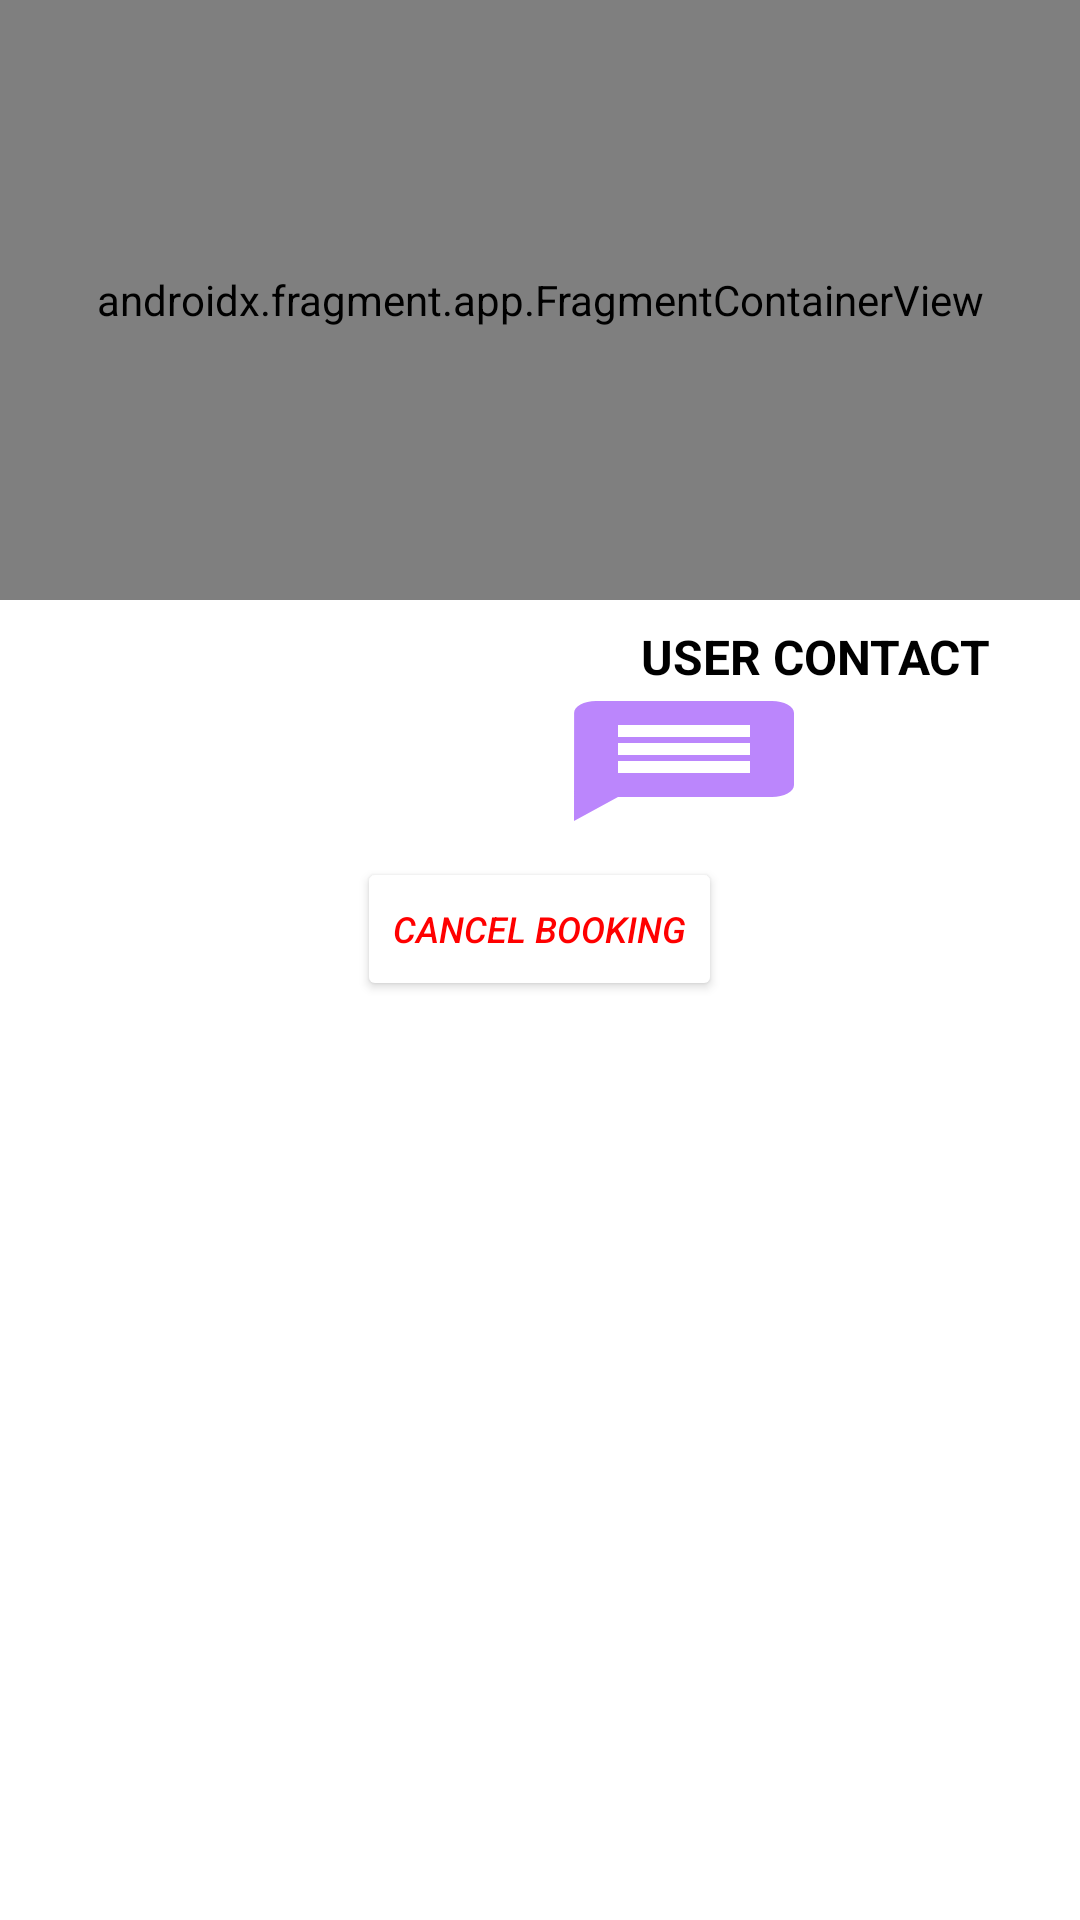

Icons on this 1080x1920 Android screen, each with the point to tap as [x,y]:
message: [684,761]
